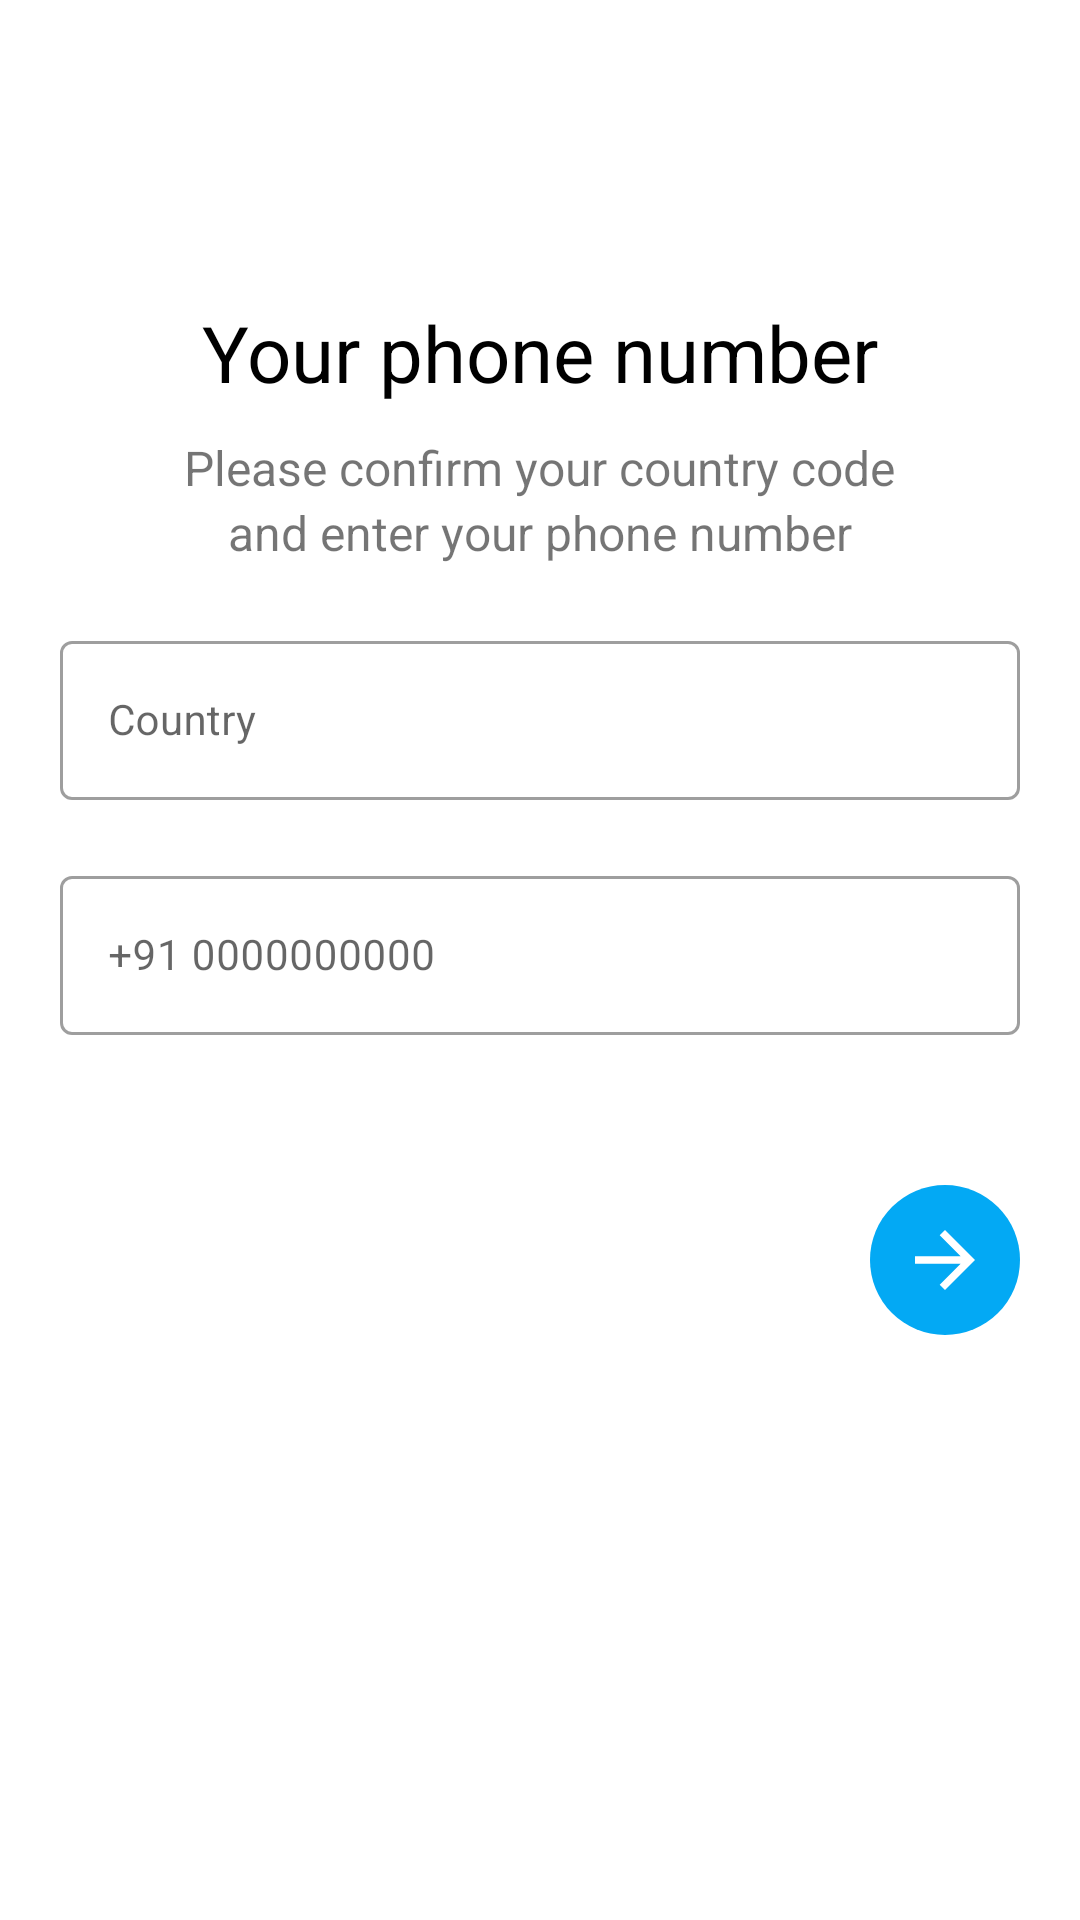

Point at icon controls on the screen. Image size 1080px×1920px, points as (x=x, y=y).
forward arrow: (x=945, y=1260)
